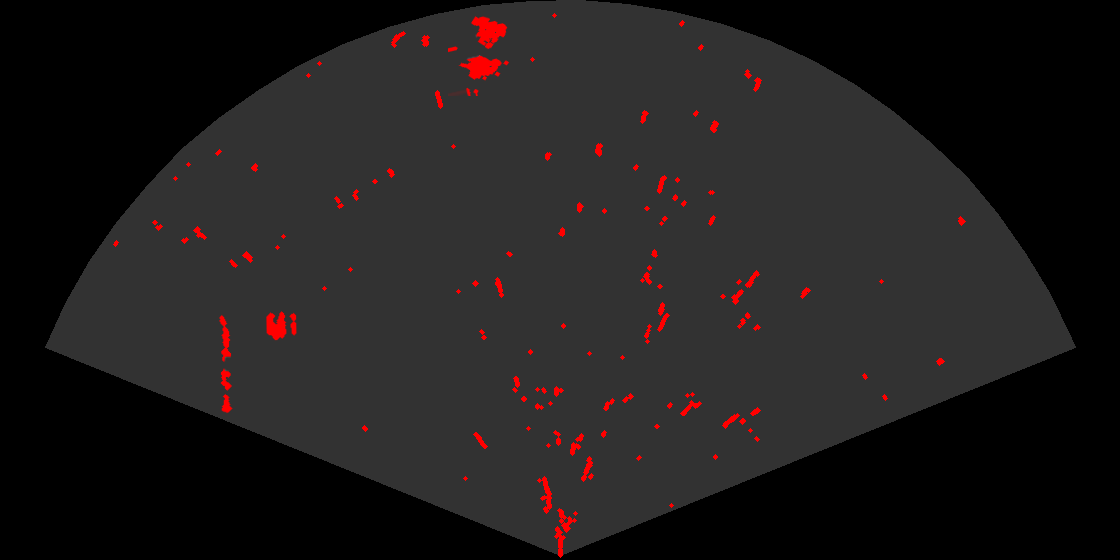ball: (265, 310, 298, 342)
cage: (448, 15, 511, 96)
chain: (218, 314, 234, 414)
